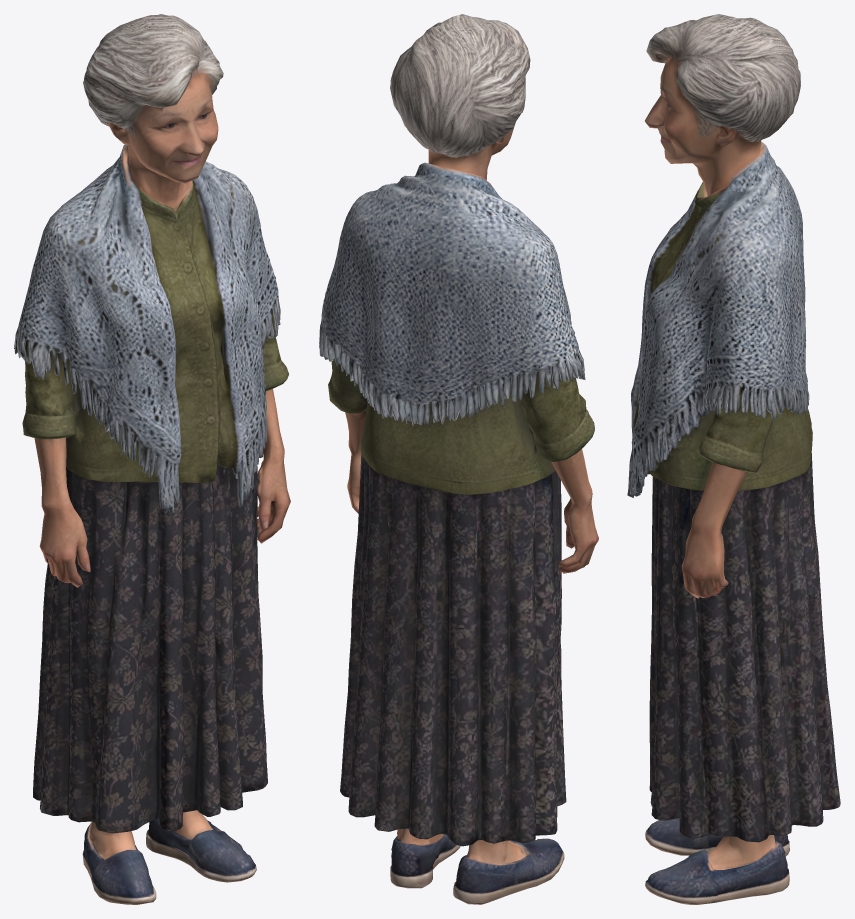
Rendered from gardenHomes.glb.
3 views of the same model, side by side, from view 1: azimuth 30°, elevation 25°; view 2: azimuth 150°, elevation 25°; view 3: azimuth 270°, elevation 25° (orthographic).
Parts seen in each view (by area): view 1: tripo_node_e7019e6a-e245-411b-8184-a458efcfc3c8, gardenHomes articulation; view 2: tripo_node_e7019e6a-e245-411b-8184-a458efcfc3c8; view 3: tripo_node_e7019e6a-e245-411b-8184-a458efcfc3c8, gardenHomes articulation.
Part boxes in pixels (x1,y1,x2,y2): tripo_node_e7019e6a-e245-411b-8184-a458efcfc3c8: [14, 14, 290, 904]; gardenHomes articulation: [121, 69, 223, 201]; tripo_node_e7019e6a-e245-411b-8184-a458efcfc3c8: [319, 14, 598, 904]; tripo_node_e7019e6a-e245-411b-8184-a458efcfc3c8: [627, 14, 840, 904]; gardenHomes articulation: [645, 51, 722, 194].
Bounding box in the file's own units: 0.3096 × 0.9796 × 0.2217.
2 materials, 1 textured.
